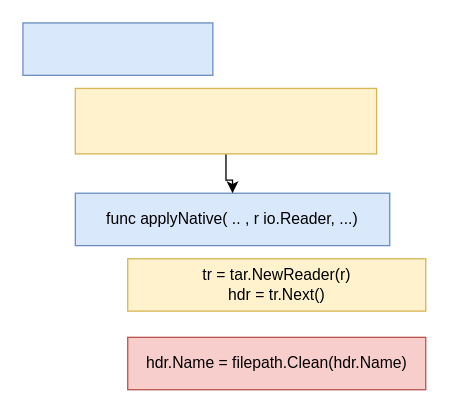
The diagram is 449 pixels wide and 413 high, and some of its shapes have lost their labels. Here are the shapes that lost their labels. From the top down, the centre of each, then its label:
At pixel 117 48: "func Apply".
At pixel 225 120: "options.applyFunc = applyNative options.applyFunc()".
